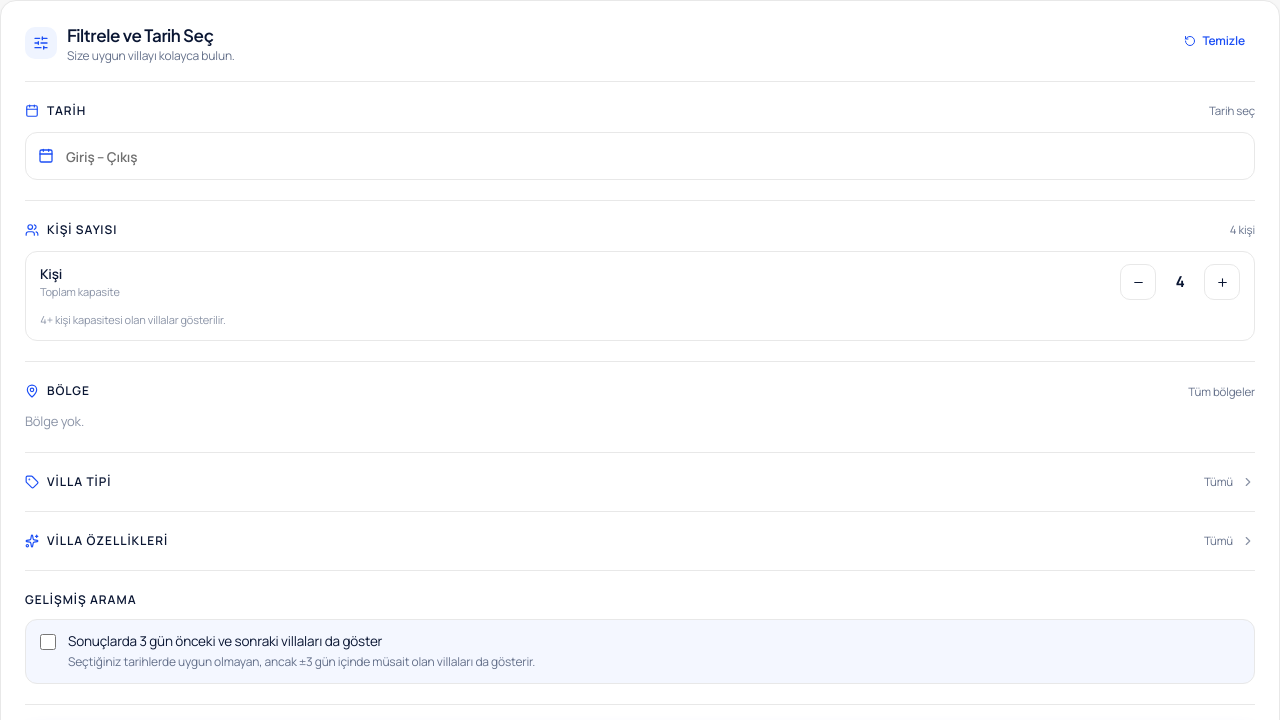
I) sidebar — accordion davranışı › 32) VİLLA ÖZELLİKLERİ bölümü accordion — seçim yokken KAPALI, açılınca seçenekler gelir
Click the button "Villa Özellikleri Tümü": (108, 540) [25,532,1255,550]
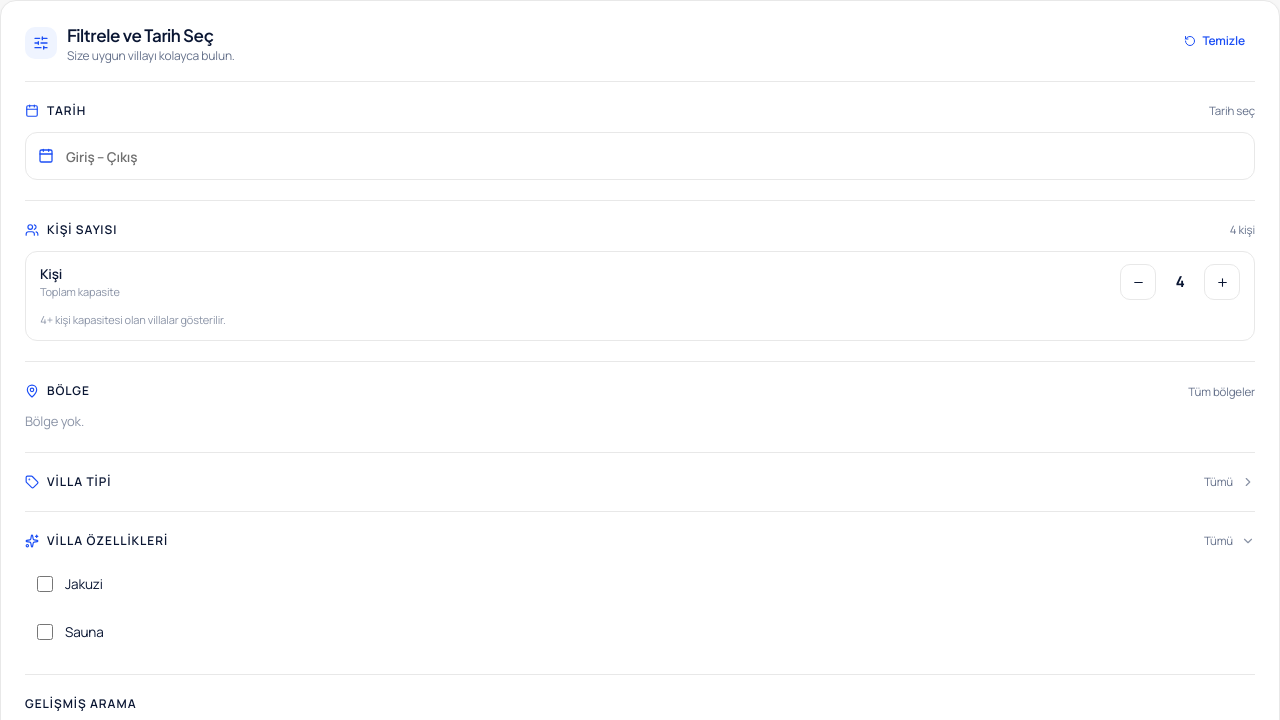
Expected: the text "Jakuzi" is shown, [65,574,103,594]
Expected: the text "Sauna" is shown, [65,622,104,642]
